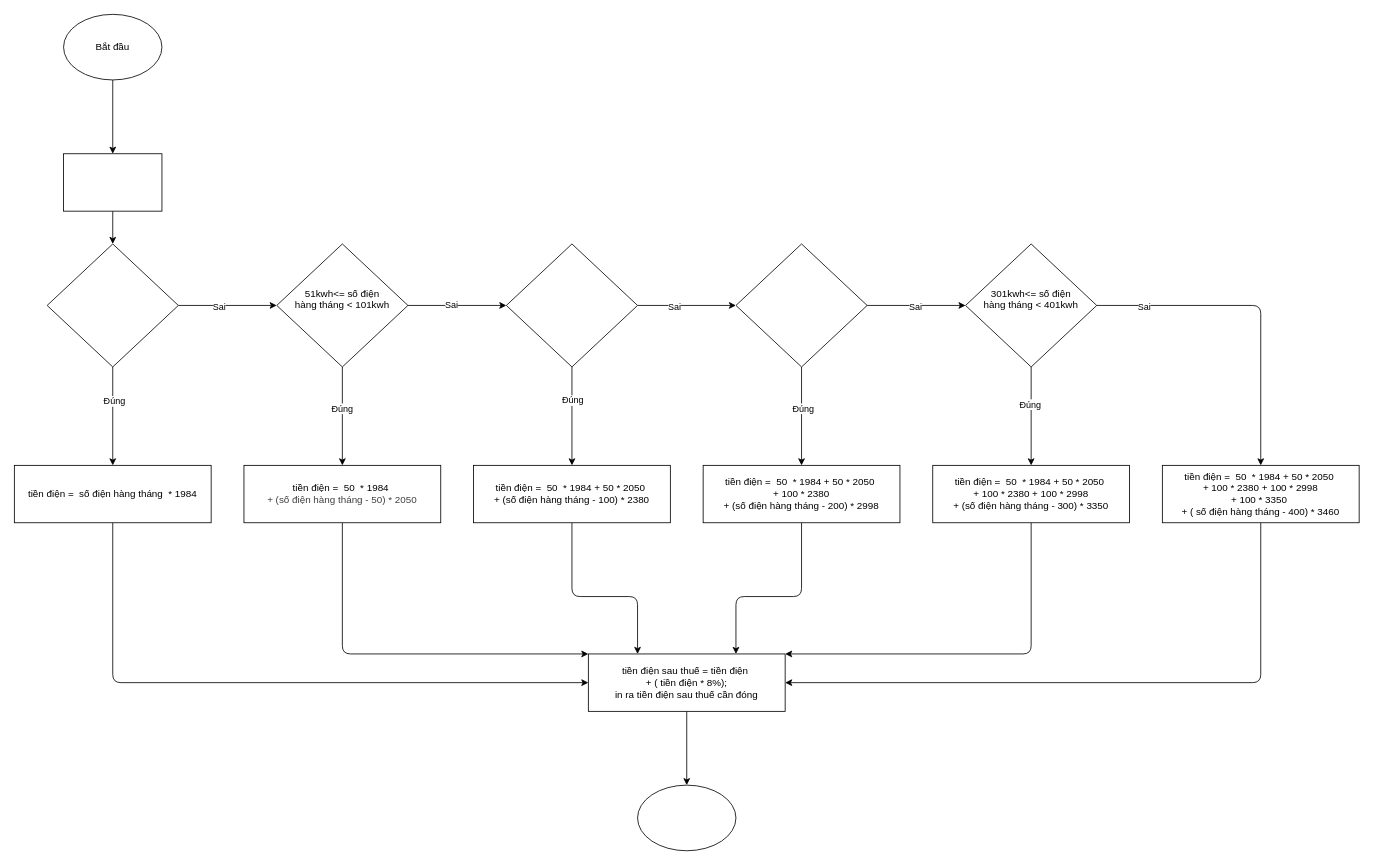
Some shapes in this 1374 by 865 pixel diagram are drawn without their labels. Each missing label, with the centre of its shape:
"101kwh<= số điện hàng tháng < 201kwh" goes at (x=572, y=305).
"201kwh<= số điện hàng tháng < 301kwh" goes at (x=801, y=305).
"Kết thúc" goes at (x=686, y=817).
"Nhập số điện hàng tháng; khai báo biến tiền điện và tiền điện sau thuế" goes at (x=112, y=182).
"số điện hàng tháng < 50kwh" goes at (x=112, y=305).
